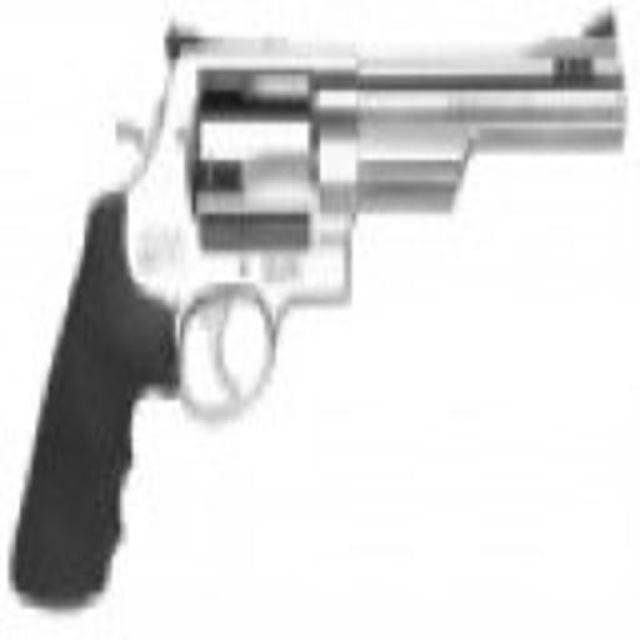pistol: (4, 5, 628, 607)
